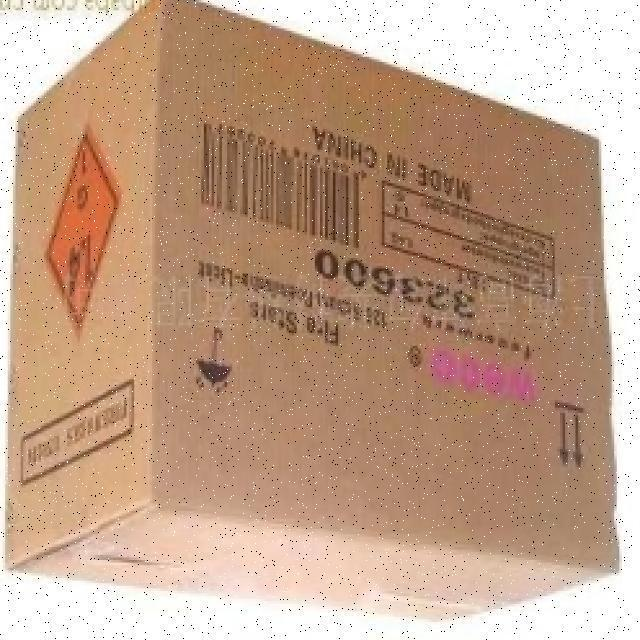box: (13, 9, 626, 622)
